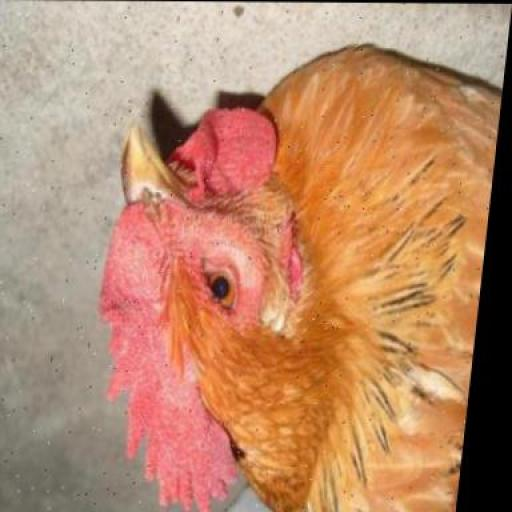disease: (176, 217, 261, 353)
